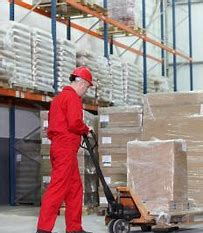Pallet Jack: (74, 129, 201, 233)
